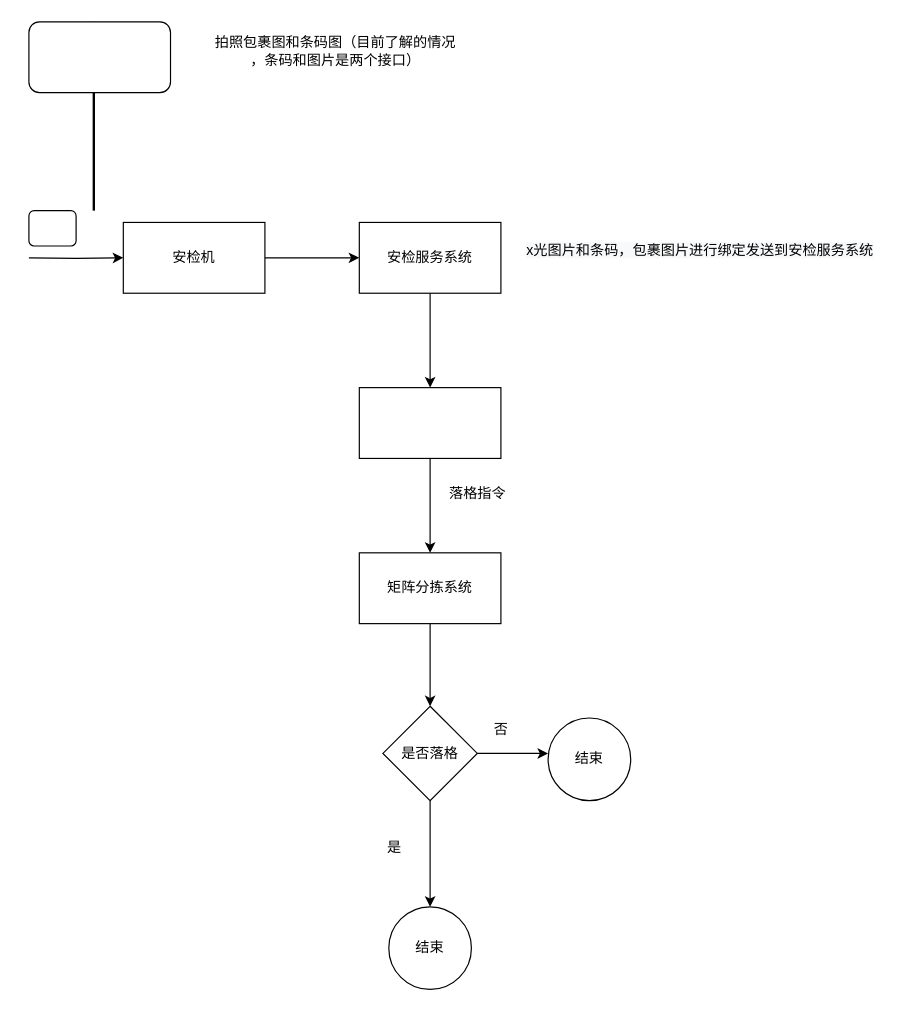
Some shapes in this 923 by 1010 pixel diagram are drawn without their labels. Each missing label, with the centre of its shape:
"包裹" belongs at (x=52, y=227).
"摄像头" belongs at (x=99, y=57).
"智能审图/人工审图" belongs at (x=429, y=422).
